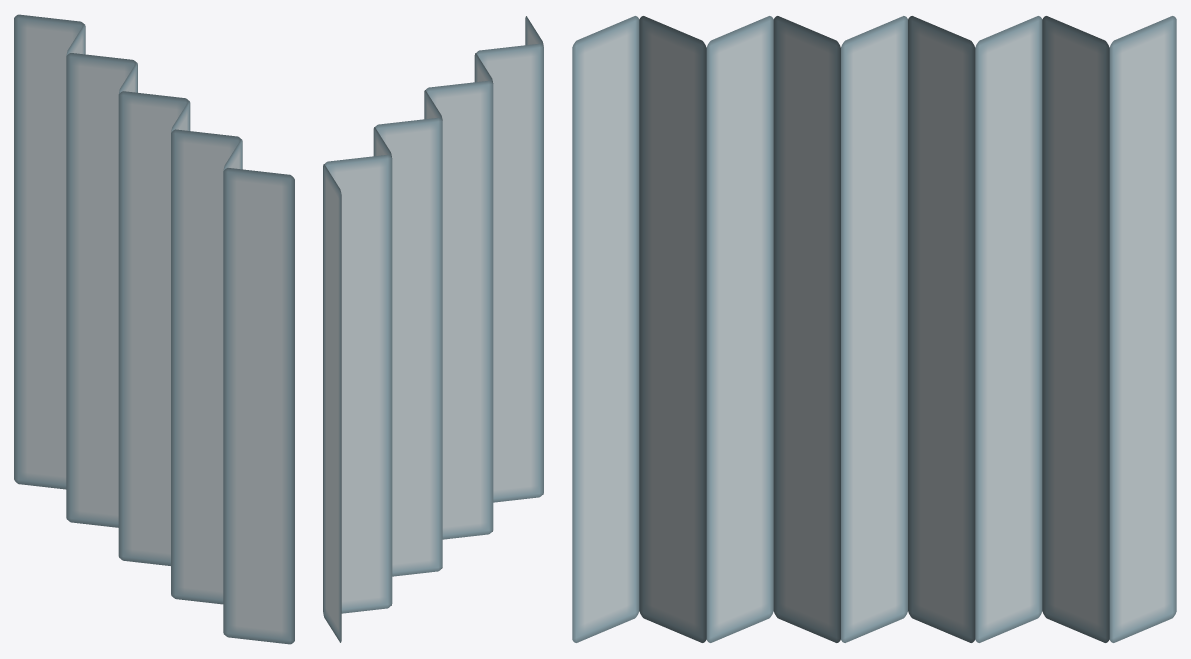
Rendered from curtain.obj.
The picture shows the model from 3 angles, left to right: view 1: azimuth 30°, elevation 25°; view 2: azimuth 150°, elevation 25°; view 3: azimuth 270°, elevation 25°; orthographic projection. The views are drawn at different scales.
Visible parts, largest first — view 1: plane; view 2: plane; view 3: plane.
Boxes of the visible parts, left/top/right/bottom form: plane: left=14, top=14, right=294, bottom=644; plane: left=323, top=16, right=543, bottom=642; plane: left=572, top=16, right=1176, bottom=642.
Bounding box in the file's own units: 0.3536 × 3.5 × 3.18.
1 material, 1 textured.
